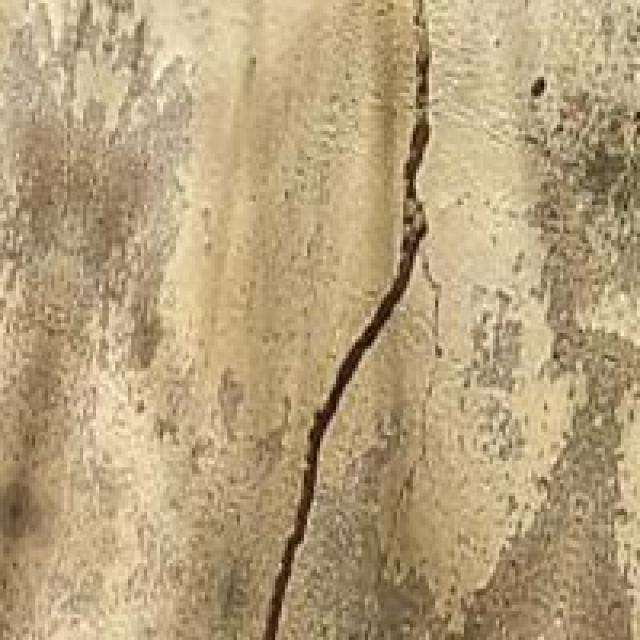crack: (205, 0, 490, 637)
